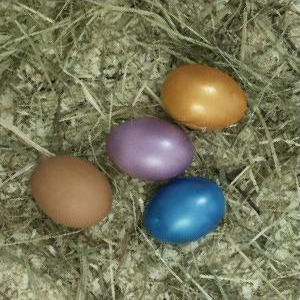egg: (30, 155, 114, 228), (32, 155, 116, 228), (162, 65, 247, 130), (144, 177, 225, 245), (108, 119, 195, 179)
